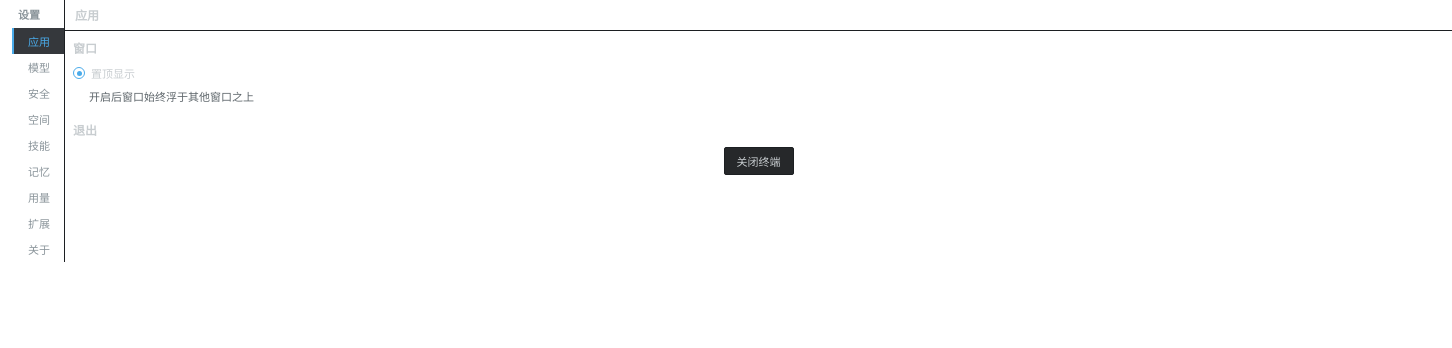
Test case: SettingsPanel · 技能页（由空间页技能节拆出） › 渲染：技能容器列表（名称 + 描述）
The image size is (1452, 348).
Click the tab "技能": (38, 145) [12,132,64,158]
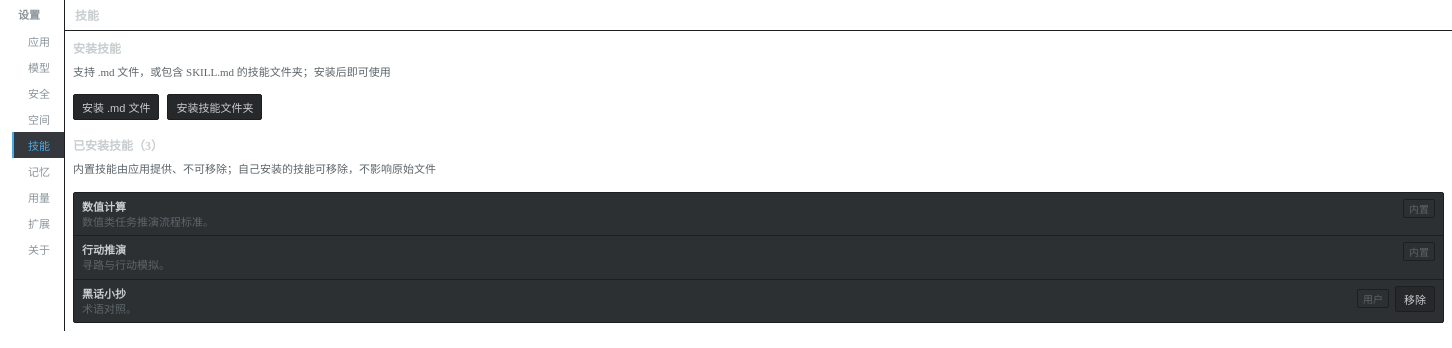
Expected: the text "数值计算" is shown, [82,201,126,213]
Expected: the text "行动推演" is shown, [82,244,126,256]
Expected: the text "安装技能" is shown, [73,42,121,56]
